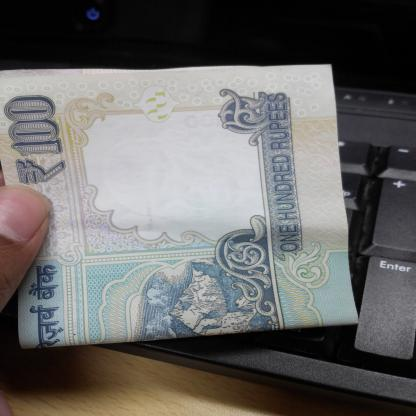Old100Back: (0, 63, 363, 350)
